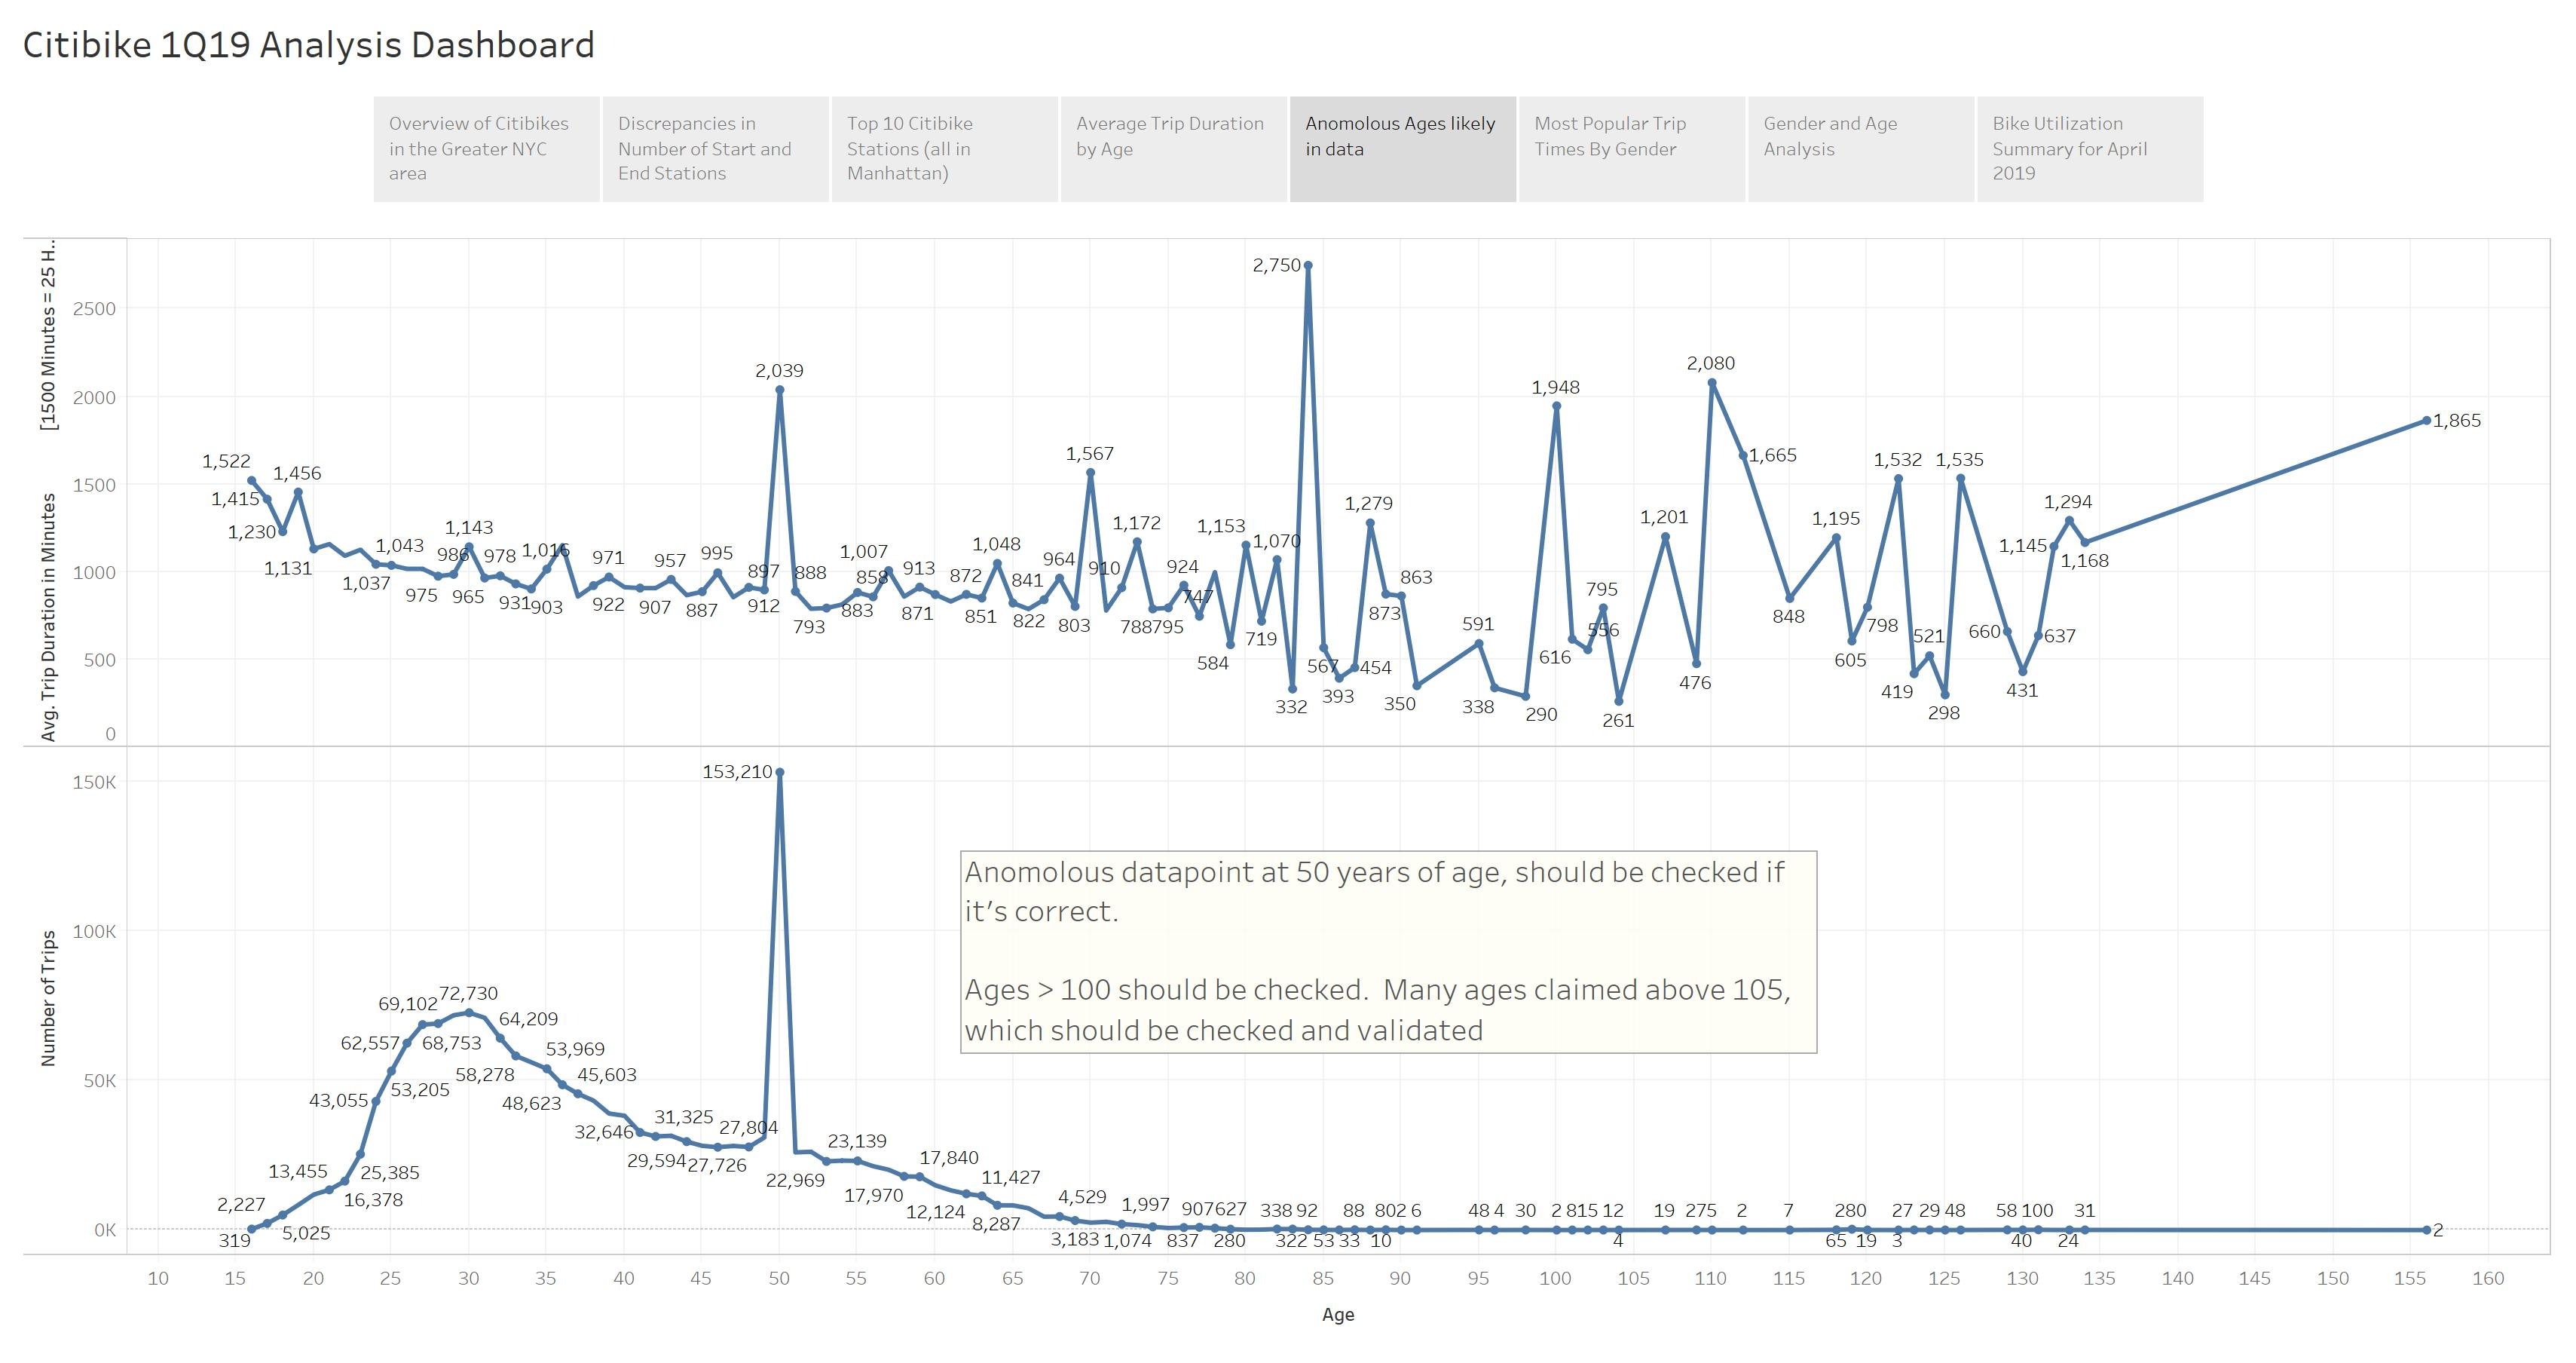

This screenshot's page, from the dashboard's own definition file:
{"tool":"tableau","page":{"name":"Anomalies in # of Start and End Stations","canvas":[1000,1000],"units":"permille","ordinal":0},"visuals":[{"type":"title","box":[4.7,8.8,990.6,46.5]},{"type":"worksheet","title":"Anomalies in Data-1","mark":"Automatic","rows":["start station latitude"],"cols":["start station longitude"],"box":[19.9,139.4,371.6,837.6]},{"type":"worksheet","title":"Anomalies in Data-2","mark":"Automatic","rows":["end station latitude"],"cols":["end station longitude"],"box":[409.1,146.6,395.5,829]},{"type":"text","box":[862,942.5,113,37.5]}]}

Visuals, with their boxes on the dashboard's canvas, which has no fixed pixel size, in thousandths of its width and height (x1, y1, x2, y2). These are canvas units, not pixel positions in the 2576x1363 screenshot, which may show the page scaled, cropped or inside an application window:
title: {"x1": 5, "y1": 9, "x2": 995, "y2": 55}
"Anomalies in Data-1" worksheet: {"x1": 20, "y1": 139, "x2": 392, "y2": 977}
"Anomalies in Data-2" worksheet: {"x1": 409, "y1": 147, "x2": 805, "y2": 976}
text: {"x1": 862, "y1": 942, "x2": 975, "y2": 980}
